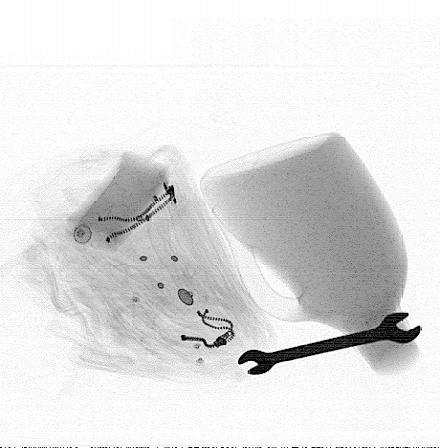Wrench: (237, 311, 423, 378)
